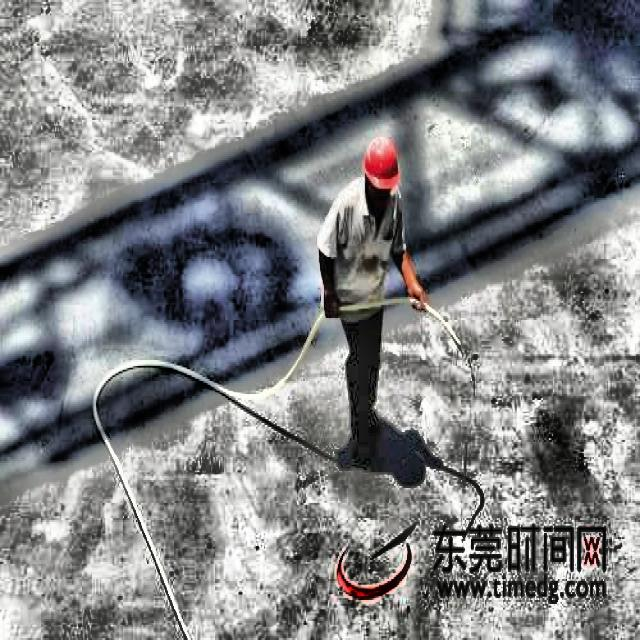helmet: (360, 131, 400, 206)
